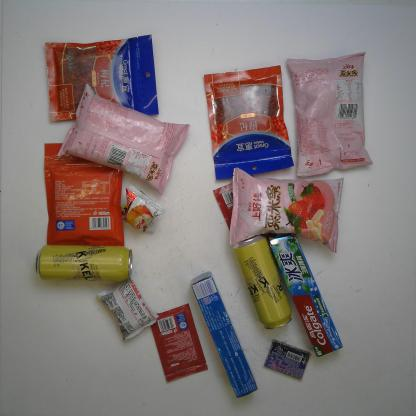Alcohol: (232, 234, 293, 331), (30, 244, 134, 284)
Dessert: (101, 280, 155, 341), (119, 184, 166, 233)
Dried Fruit: (44, 33, 160, 123), (202, 63, 292, 169), (43, 142, 124, 247)
Gum: (264, 338, 310, 382)
Personal Hygiene: (266, 233, 343, 359), (191, 265, 257, 408)
Puffed Food: (56, 83, 191, 195), (284, 40, 377, 180), (229, 167, 344, 254)
Seasoner: (147, 294, 208, 390), (212, 175, 254, 232)
